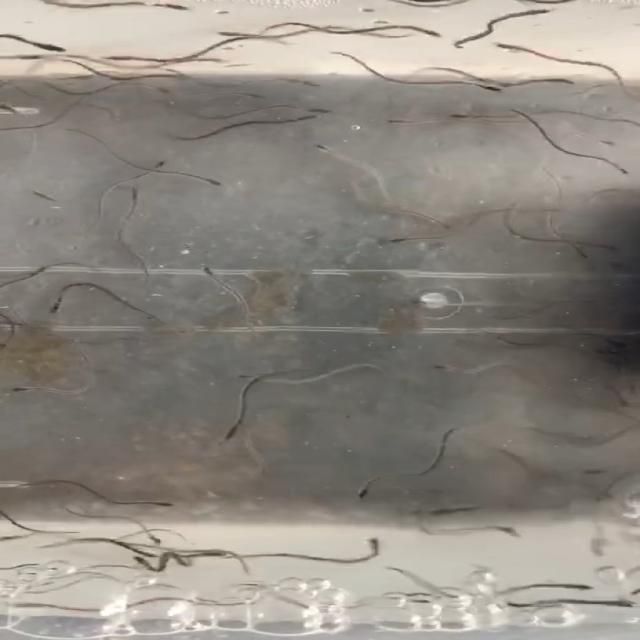active_glass_eel: (349, 534, 398, 562), (199, 27, 262, 47), (551, 574, 611, 595), (482, 517, 528, 543), (0, 376, 56, 397), (13, 186, 62, 209), (478, 35, 537, 54), (310, 136, 356, 160), (276, 75, 334, 94), (0, 593, 55, 613), (277, 113, 338, 131), (41, 70, 104, 86), (115, 554, 165, 574), (461, 79, 512, 98), (348, 481, 390, 503), (587, 593, 640, 610), (523, 3, 577, 19), (232, 370, 280, 388), (294, 98, 355, 112), (16, 36, 68, 52), (36, 293, 68, 319), (167, 0, 221, 15), (383, 230, 444, 243), (575, 129, 616, 148), (221, 414, 252, 439), (186, 544, 229, 562), (415, 594, 460, 611), (601, 158, 637, 179), (197, 177, 236, 196), (416, 212, 457, 230), (563, 75, 607, 91), (452, 108, 502, 122), (198, 260, 227, 284), (128, 185, 158, 208), (133, 495, 182, 509), (405, 26, 447, 42), (140, 523, 168, 547), (133, 84, 180, 98), (565, 240, 592, 263), (379, 116, 423, 130), (429, 361, 479, 373), (232, 88, 272, 102), (0, 98, 26, 118), (143, 157, 169, 174)
